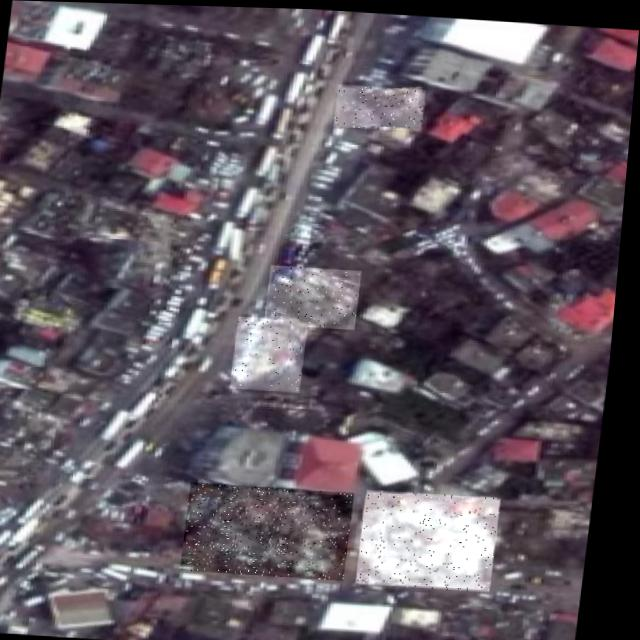Rubble: (189, 481, 362, 579), (364, 486, 509, 589), (268, 263, 365, 327), (235, 314, 312, 390), (334, 81, 426, 129)
